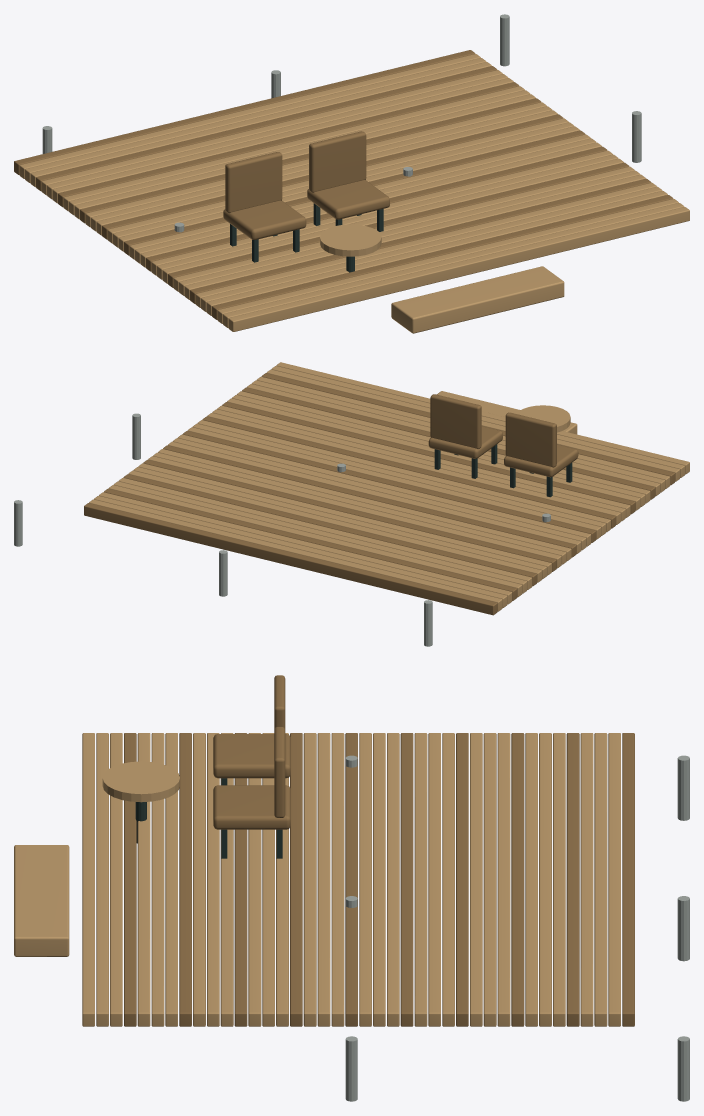
Rendered from terrace.glb.
The picture shows the model from 3 angles, top to bottom: view 1: azimuth 30°, elevation 25°; view 2: azimuth 150°, elevation 25°; view 3: azimuth 270°, elevation 25°; orthographic projection. The views are drawn at different scales.
Visible parts, largest first — view 1: terrace_Modřín – přírodní dřevo.001, terrace_Dřevo – tmavší lamely.002, terrace_Pozinkovaný podvozek.001, terrace_Antracitový falcovaný plech.003; view 2: terrace_Modřín – přírodní dřevo.001, terrace_Dřevo – tmavší lamely.002, terrace_Pozinkovaný podvozek.001, terrace_Antracitový falcovaný plech.003; view 3: terrace_Modřín – přírodní dřevo.001, terrace_Dřevo – tmavší lamely.002, terrace_Pozinkovaný podvozek.001, terrace_Antracitový falcovaný plech.003.
Part boxes in pixels (box(x1,y1,x2,y2)): terrace_Modřín – přírodní dřevo.001: box(19, 54, 689, 333); terrace_Dřevo – tmavší lamely.002: box(14, 50, 673, 319); terrace_Pozinkovaný podvozek.001: box(42, 14, 641, 232); terrace_Antracitový falcovaný plech.003: box(230, 203, 383, 272); terrace_Modřín – přírodní dřevo.001: box(89, 362, 689, 611); terrace_Dřevo – tmavší lamely.002: box(84, 373, 675, 615); terrace_Pozinkovaný podvozek.001: box(14, 413, 550, 646); terrace_Antracitový falcovaný plech.003: box(434, 444, 572, 497); terrace_Modřín – přírodní dřevo.001: box(14, 733, 620, 1026); terrace_Dřevo – tmavší lamely.002: box(124, 675, 634, 1026); terrace_Pozinkovaný podvozek.001: box(345, 755, 689, 1101); terrace_Antracitový falcovaný plech.003: box(135, 778, 282, 858).
Bounding box in the file's own units: 6.75 × 1.55 × 6.11.
